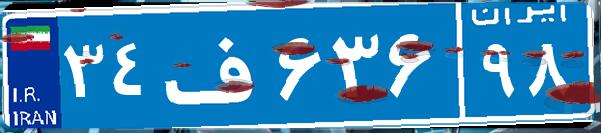3: (330, 28, 385, 110), (57, 26, 110, 107)
4: (110, 28, 158, 105)
6: (385, 28, 445, 110), (273, 28, 330, 110)
8: (525, 38, 570, 115)
9: (475, 38, 525, 113)
ف: (158, 15, 273, 115)
